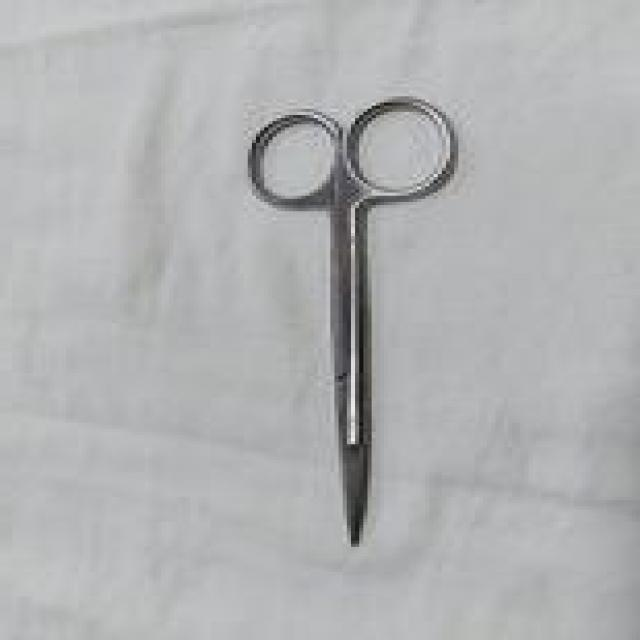Iris: (243, 90, 462, 553)
